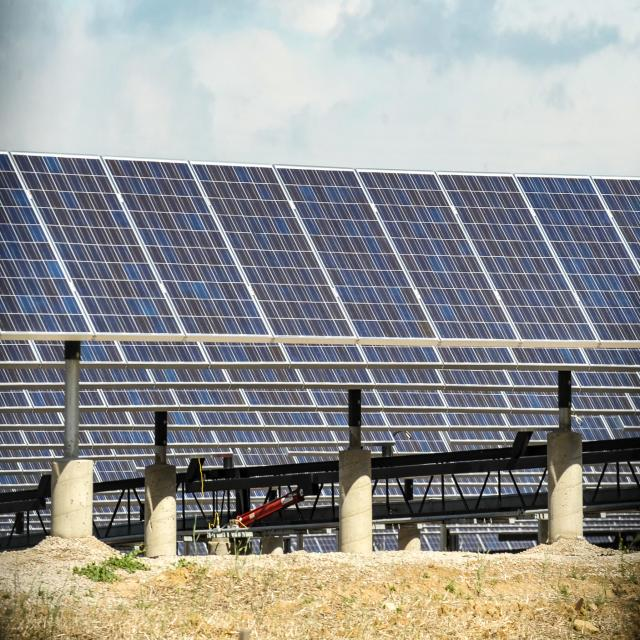clean-solar-panel: (1, 152, 640, 489)
